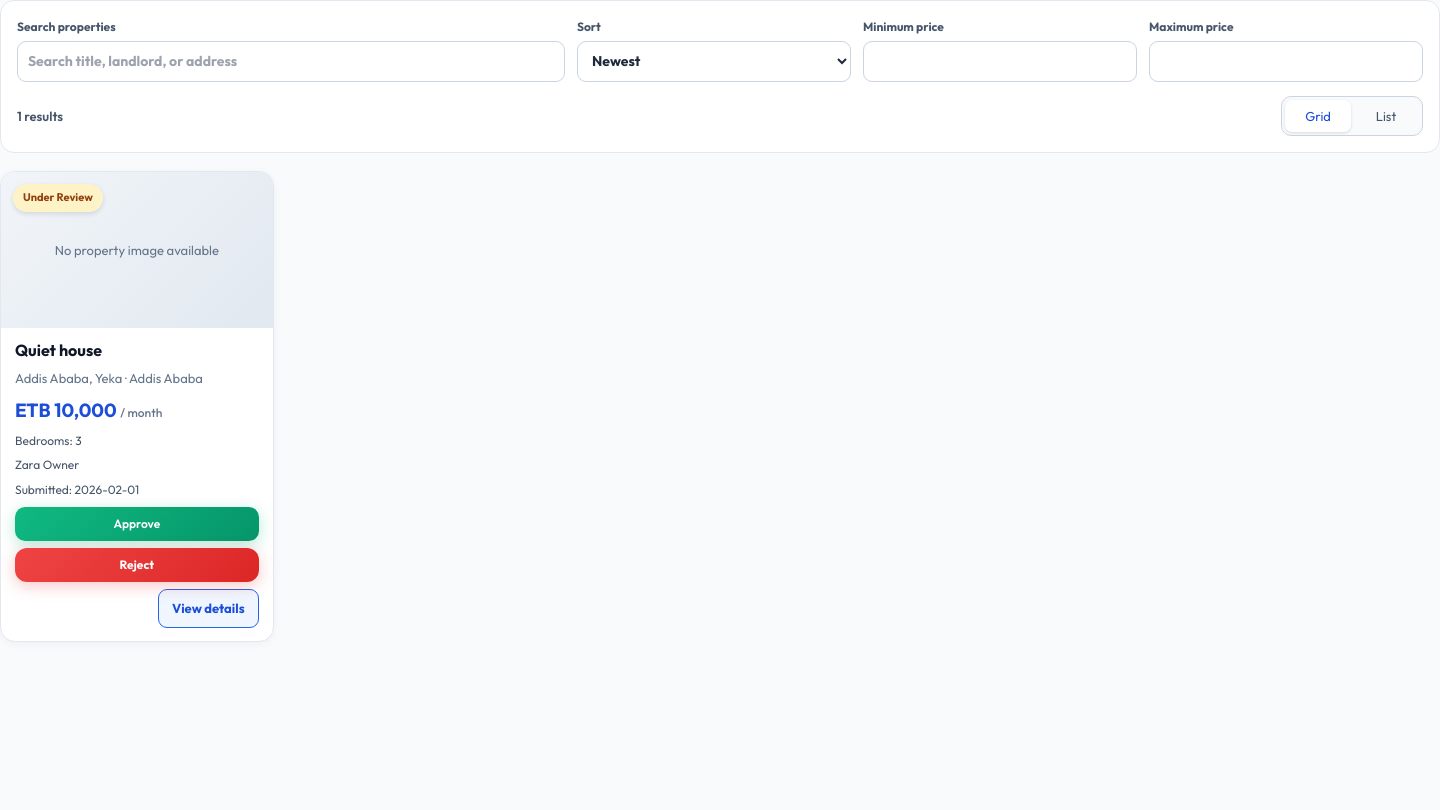
shows the server rejection error and quick-pick text remains editable
The width and height of the screenshot is (1440, 810).
Click the button "Reject" at (137, 565), box top-left (15, 548), bottom-right (259, 582)
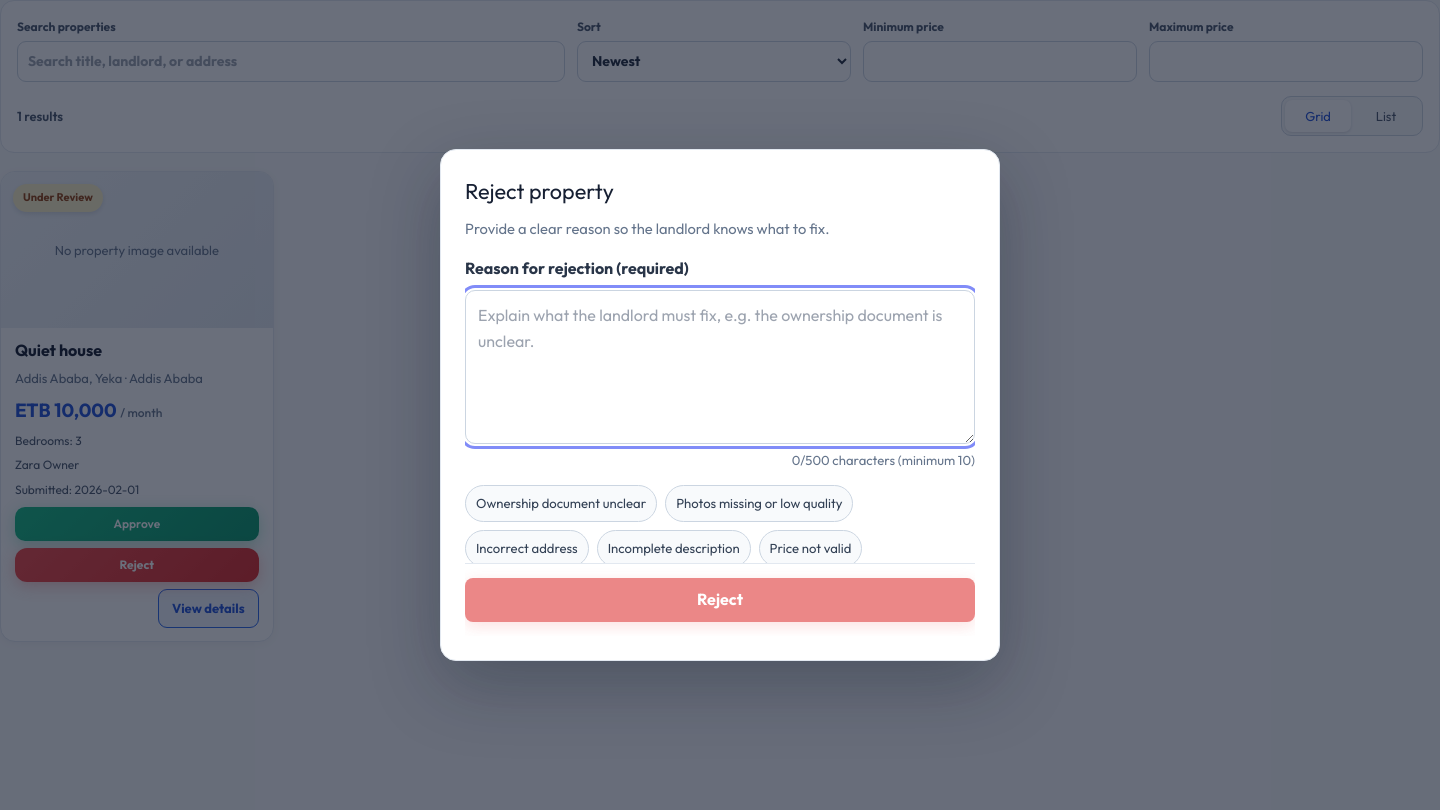
Click the button "Incorrect address" at (527, 548), box top-left (465, 530), bottom-right (589, 567)
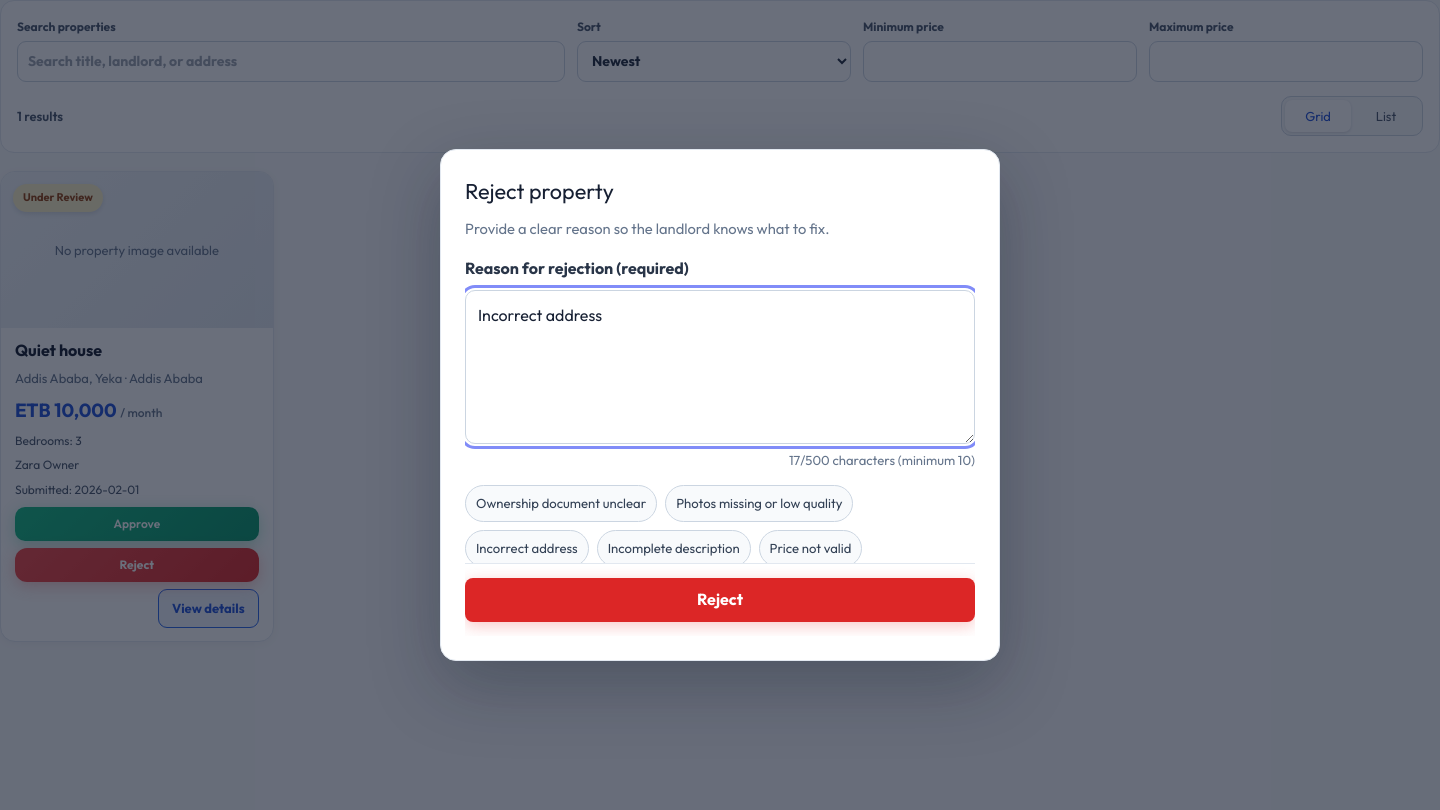
expect the text box labelled "Reason for rejection (required)" holds "Incorrect address": met
Replace the text in the text box labelled "Reason for rejection (required)" with "Incorrect address - the kebele is missing." at (720, 367), box top-left (465, 290), bottom-right (975, 444)
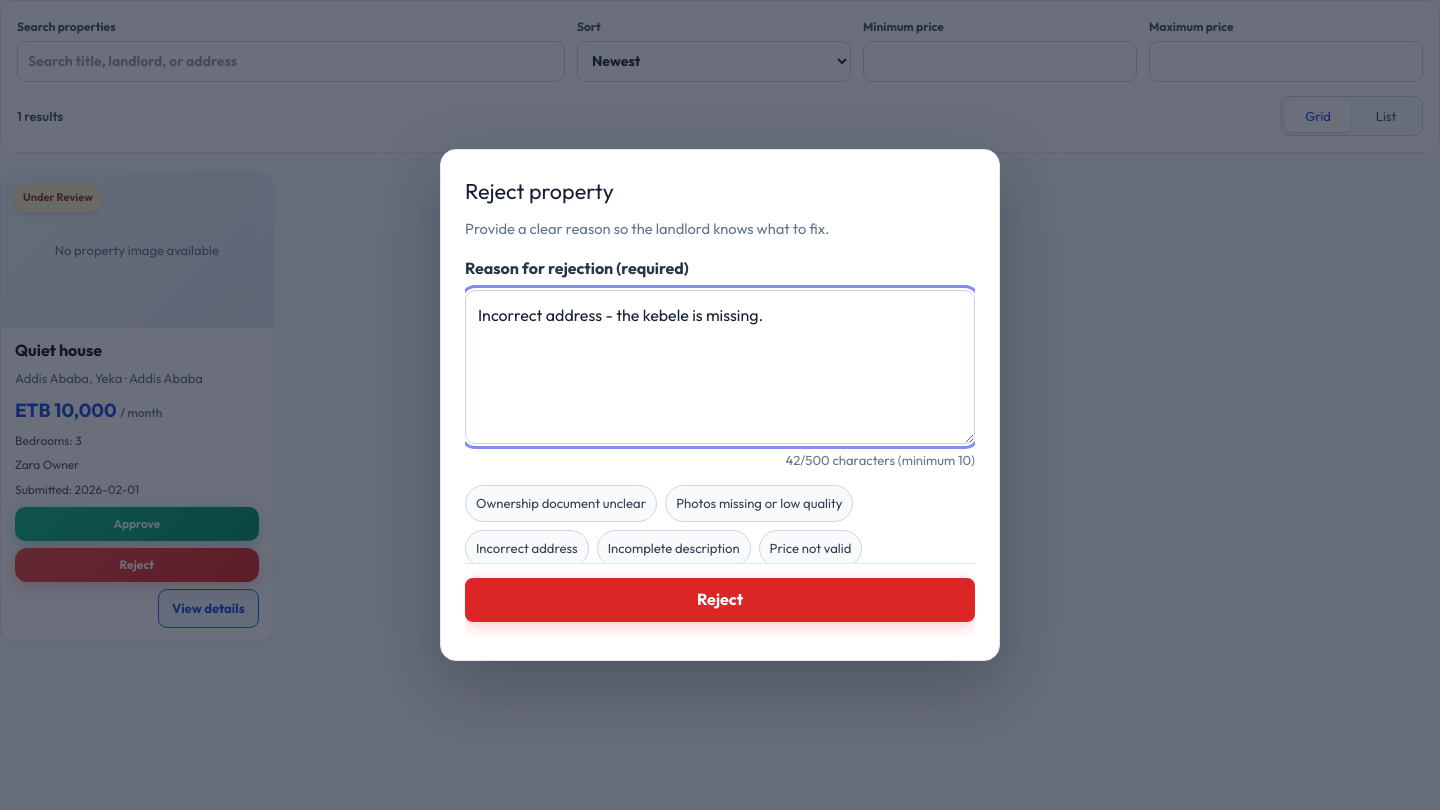
Click the button "Reject" at (720, 600), box top-left (465, 578), bottom-right (975, 622)
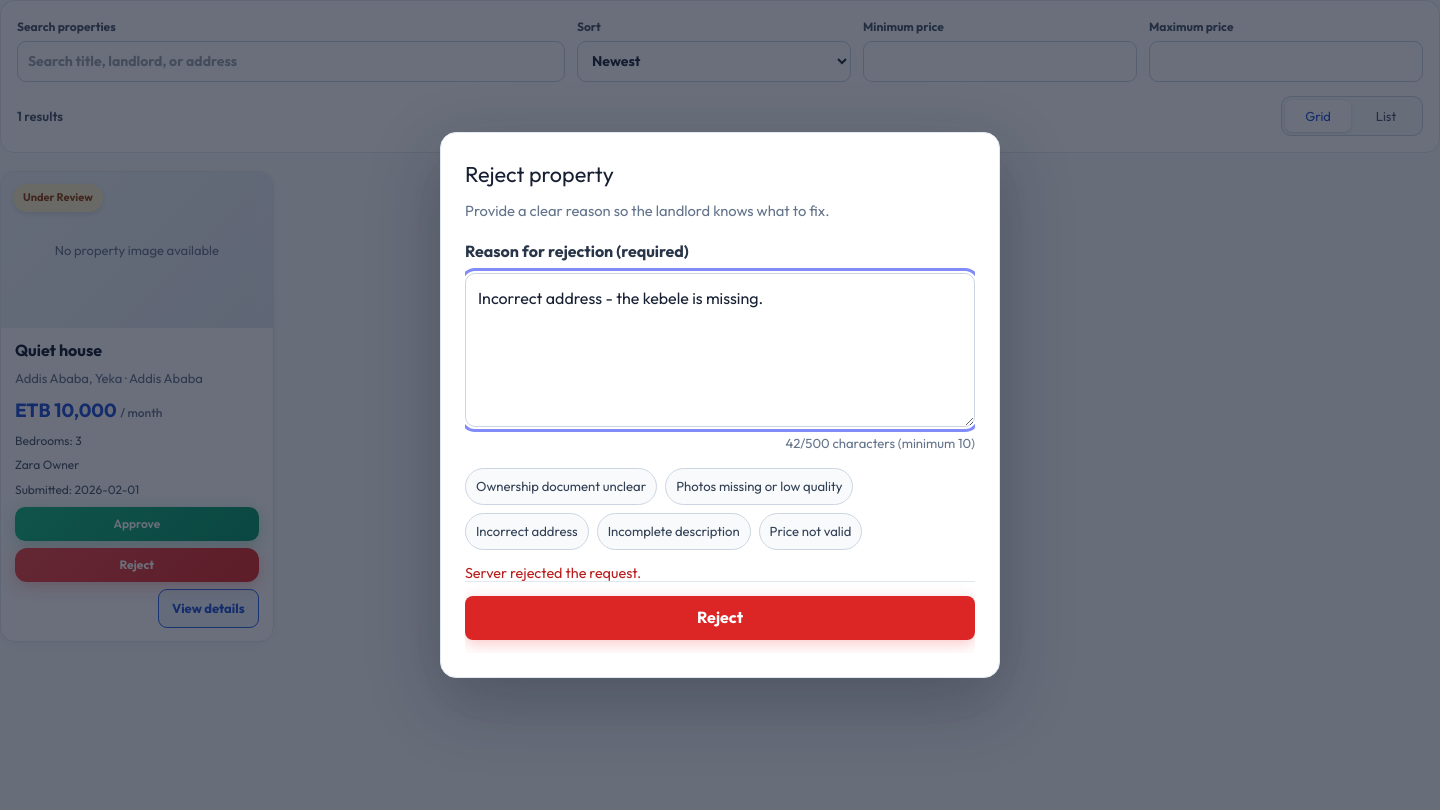
expect the message reads "Server rejected the request.": met, box top-left (465, 564), bottom-right (641, 582)
Press Escape
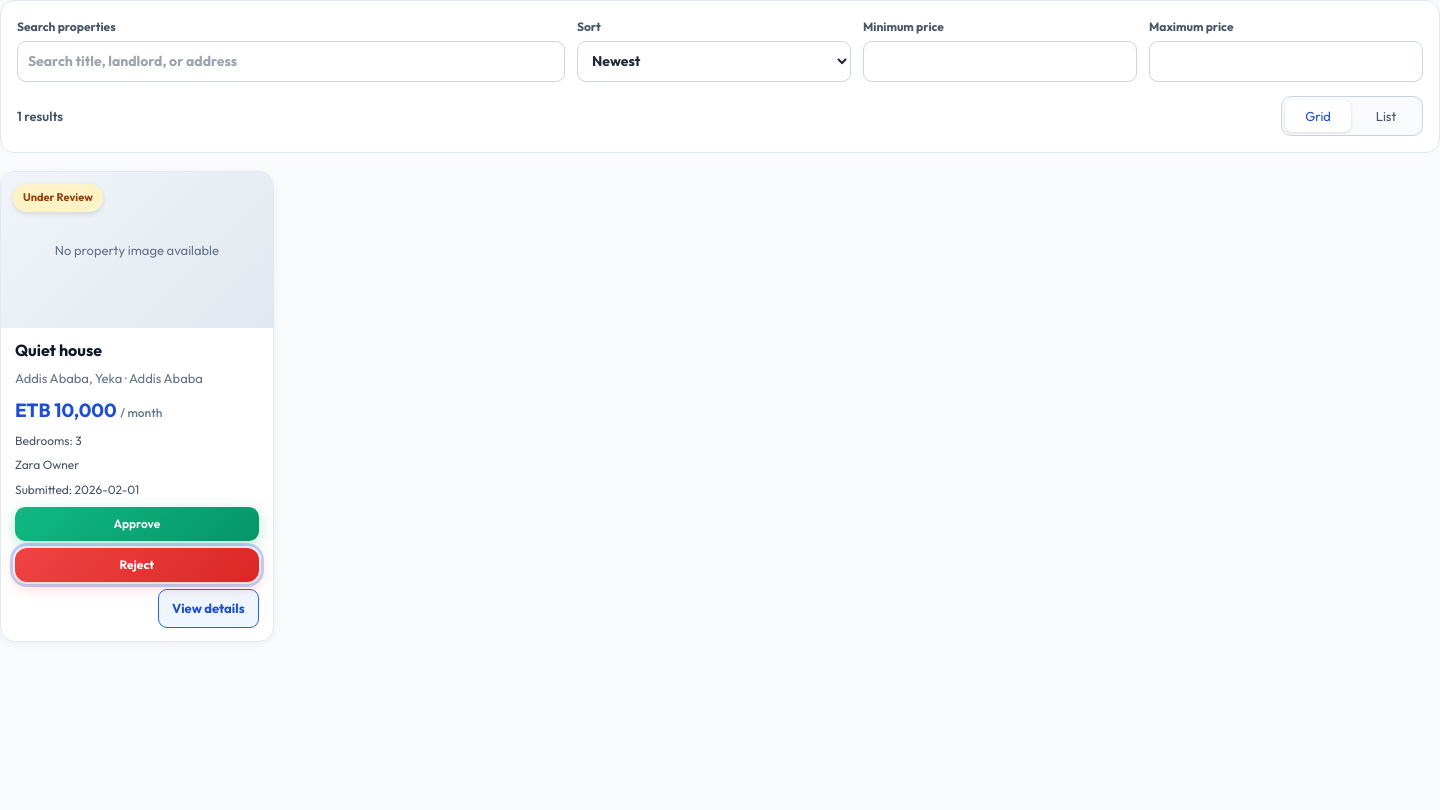
expect the heading "Reject property" is gone: met
